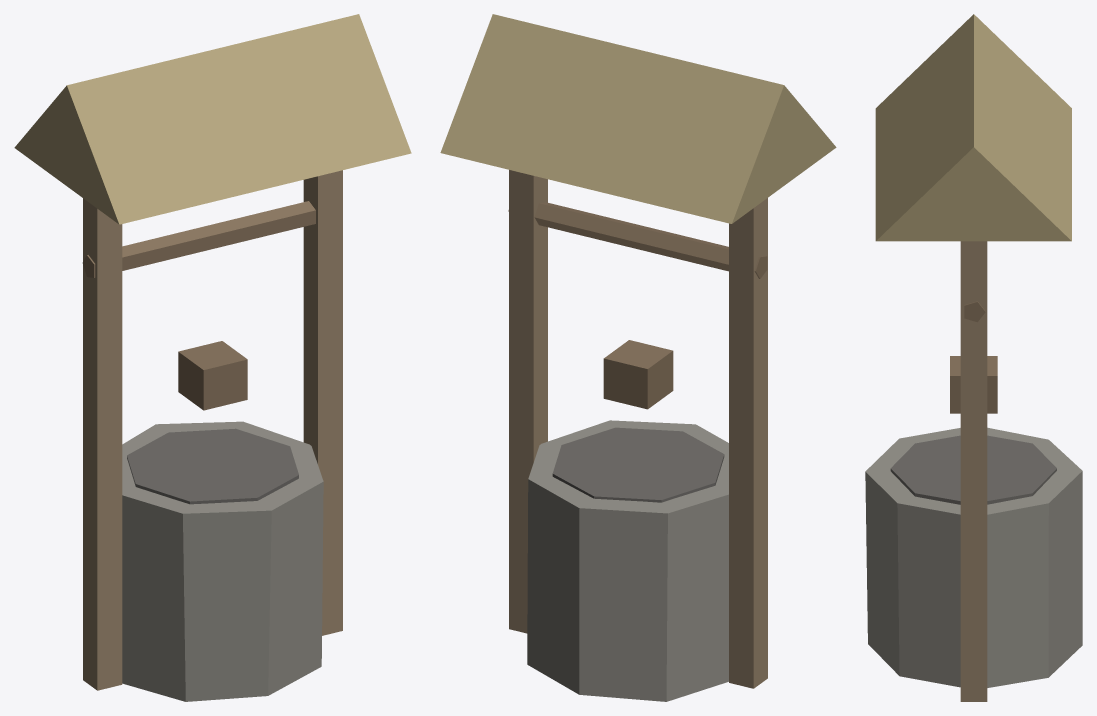
The model's file is well.glb.
The picture shows the model from 3 angles, left to right: view 1: azimuth 30°, elevation 25°; view 2: azimuth 150°, elevation 25°; view 3: azimuth 270°, elevation 25°; orthographic projection. The views are drawn at different scales.
Parts seen in each view (by area): view 1: well; view 2: well; view 3: well.
Part boxes in pixels (box(x1,y1,x2,y2)): well: box(14, 14, 411, 701); well: box(440, 14, 836, 701); well: box(865, 14, 1082, 701).
Size of the model in its own units: 1.06 by 2.11 by 0.7312.
